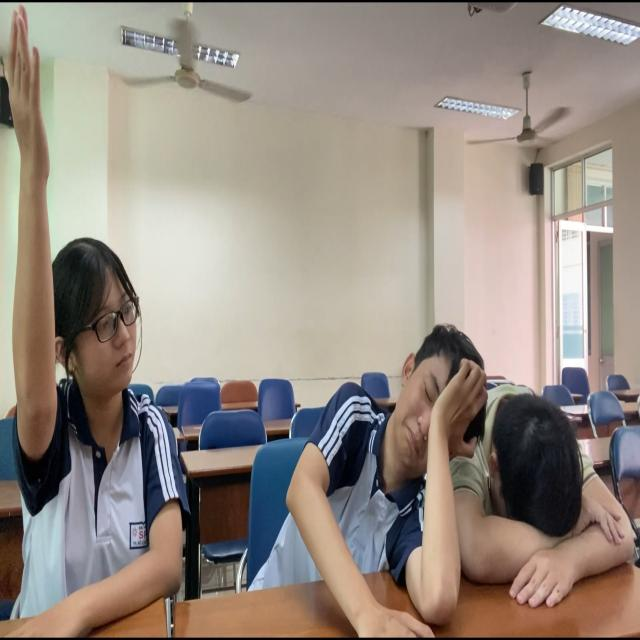raise_hand: (1, 1, 193, 639)
